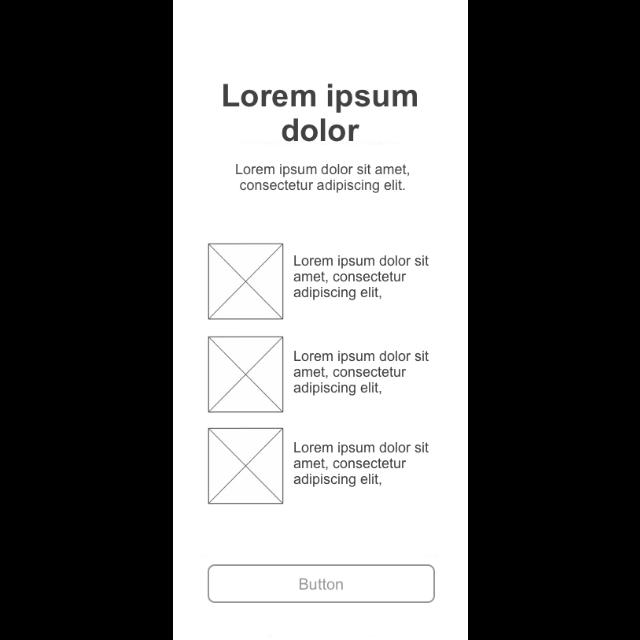image: (208, 243, 284, 321), (208, 428, 284, 506), (208, 336, 284, 412)
text: (223, 84, 417, 142), (293, 253, 429, 300), (293, 350, 429, 396), (293, 442, 429, 488), (235, 164, 409, 194)
textbutton: (208, 564, 434, 604)
